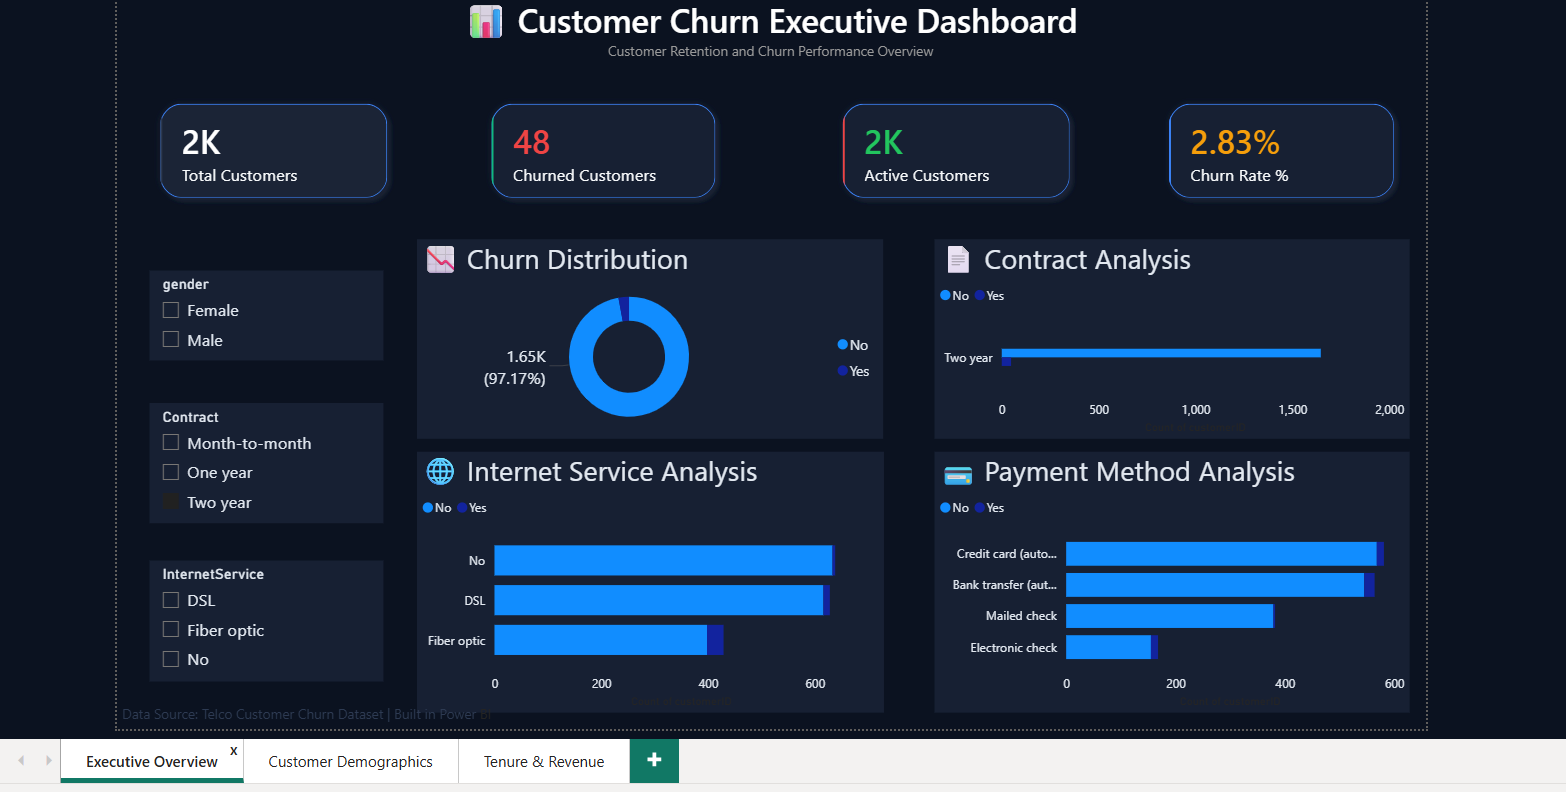

This screenshot's page, from the dashboard's own definition file:
{"tool":"powerbi","page":{"name":"Executive Overview","canvas":[1280,720],"ordinal":0},"visuals":[{"type":"cardVisual","fields":{"Data":["CustomerChurn.Total Customers"]},"box":[13.5,79.5,280,150.4],"z":0},{"type":"cardVisual","fields":{"Data":["CustomerChurn.Active Customers"]},"box":[681.1,79.5,280,150.4],"z":1000},{"type":"cardVisual","fields":{"Data":["CustomerChurn.Churn Rate %"]},"box":[1000.3,79.5,278.8,150.4],"z":2000},{"type":"cardVisual","fields":{"Data":["CustomerChurn.Churned Customers"]},"box":[337.5,79.5,277.6,150.4],"z":3000},{"type":"donutChart","title":"📉 Churn Distribution","fields":{"Category":["CustomerChurn.Churn"],"Y":["CountNonNull(CustomerChurn.customerID)"]},"box":[293.8,241.2,456.2,195],"z":4000},{"type":"clusteredBarChart","title":"📄 Contract Analysis","fields":{"Category":["CustomerChurn.Contract"],"Y":["CountNonNull(CustomerChurn.customerID)"],"Series":["CustomerChurn.Churn"]},"box":[800,241.2,465,195],"z":5000},{"type":"barChart","title":"🌐 Internet Service Analysis","fields":{"Category":["CustomerChurn.InternetService"],"Y":["CountNonNull(CustomerChurn.customerID)"],"Series":["CustomerChurn.Churn"]},"box":[293.3,448.3,456.7,255],"z":6000},{"type":"barChart","title":"💳 Payment Method Analysis","fields":{"Category":["CustomerChurn.PaymentMethod"],"Y":["CountNonNull(CustomerChurn.customerID)"],"Series":["CustomerChurn.Churn"]},"box":[800,448.8,465,255],"z":7000},{"type":"slicer","fields":{"Values":["CustomerChurn.gender"]},"box":[31.8,271.5,228.7,88],"z":8000},{"type":"slicer","fields":{"Values":["CustomerChurn.Contract"]},"box":[31.2,401.2,228.8,117.5],"z":9000},{"type":"slicer","fields":{"Values":["CustomerChurn.InternetService"]},"box":[31.2,555,228.8,118.8],"z":10000},{"type":"textbox","box":[0,0,1278.8,80],"z":11000},{"type":"textbox","box":[0,691.2,373.8,28.8],"z":11001}]}

Visuals, with their boxes on the page's 1280x720 design canvas (x1, y1, x2, y2). These are canvas units, not pixel positions in the 1566x792 screenshot, which may show the page scaled, cropped or inside an application window:
cardVisual - CustomerChurn.Total Customers: bbox(14, 80, 294, 230)
cardVisual - CustomerChurn.Active Customers: bbox(681, 80, 961, 230)
cardVisual - CustomerChurn.Churn Rate %: bbox(1000, 80, 1279, 230)
cardVisual - CustomerChurn.Churned Customers: bbox(338, 80, 615, 230)
"📉 Churn Distribution" donutChart: bbox(294, 241, 750, 436)
"📄 Contract Analysis" clusteredBarChart: bbox(800, 241, 1265, 436)
"🌐 Internet Service Analysis" barChart: bbox(293, 448, 750, 703)
"💳 Payment Method Analysis" barChart: bbox(800, 449, 1265, 704)
slicer - CustomerChurn.gender: bbox(32, 272, 260, 360)
slicer - CustomerChurn.Contract: bbox(31, 401, 260, 519)
slicer - CustomerChurn.InternetService: bbox(31, 555, 260, 674)
textbox: bbox(0, 0, 1279, 80)
textbox: bbox(0, 691, 374, 720)
